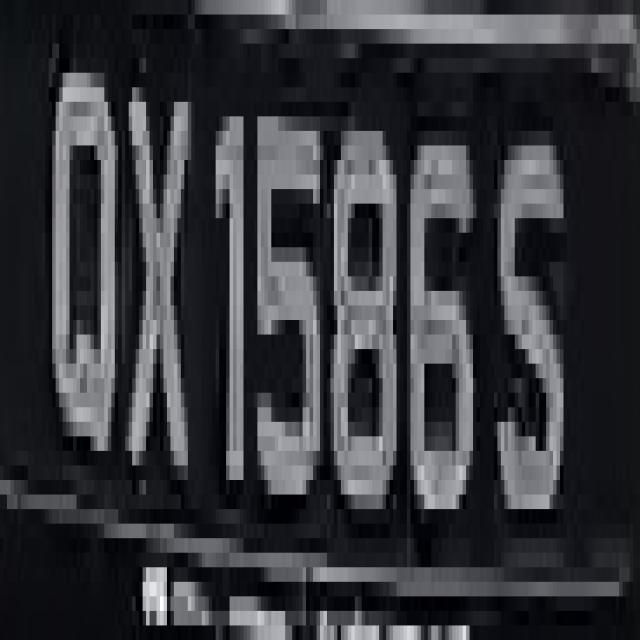1: (205, 58, 258, 553)
5: (247, 58, 327, 582)
6: (404, 87, 484, 553)
8: (320, 87, 400, 553)
Q: (35, 15, 125, 480)
S: (484, 102, 570, 596)
X: (115, 43, 188, 494)
